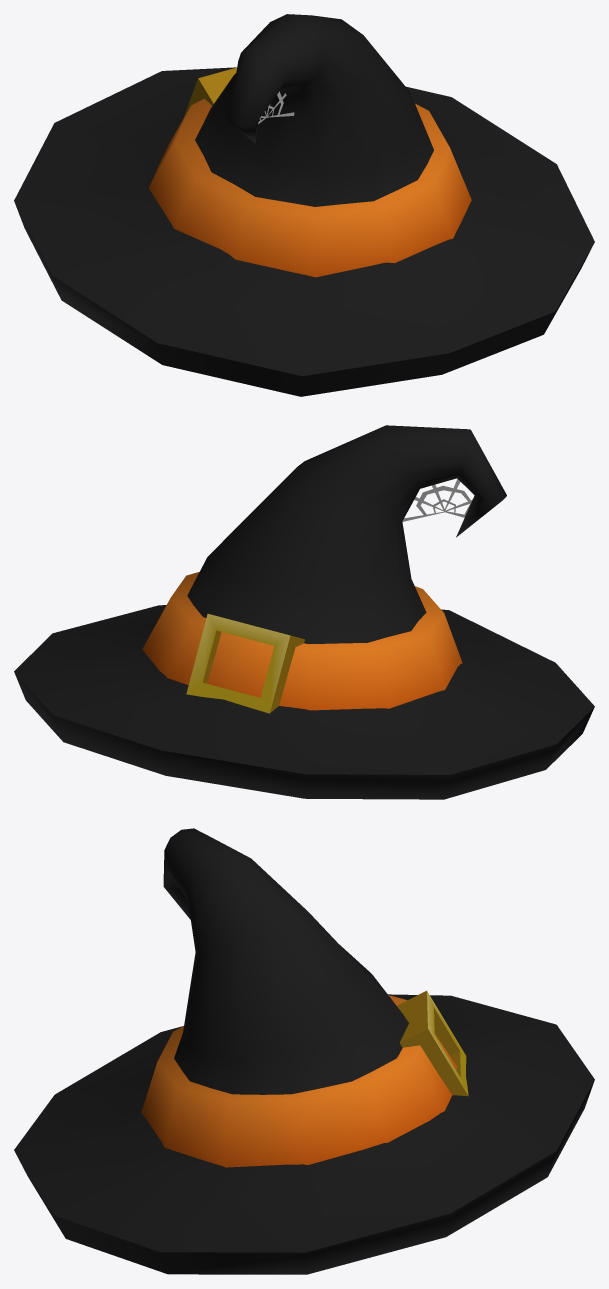
The model's file is hat_cobweb.glb.
3 renders of one model, top to bottom at view 1: azimuth 30°, elevation 25°; view 2: azimuth 150°, elevation 25°; view 3: azimuth 270°, elevation 25°, orthographic.
Visible parts, largest first — view 1: hat_cobweb; view 2: hat_cobweb; view 3: hat_cobweb.
Part boxes in pixels (bbox=[...]): hat_cobweb: bbox=[14, 14, 594, 396]; hat_cobweb: bbox=[14, 425, 594, 799]; hat_cobweb: bbox=[14, 828, 594, 1274].
Size of the model in its own units: 0.5637 by 0.3234 by 0.5585.
